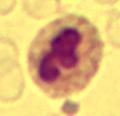monocyte: (26, 12, 105, 97)
